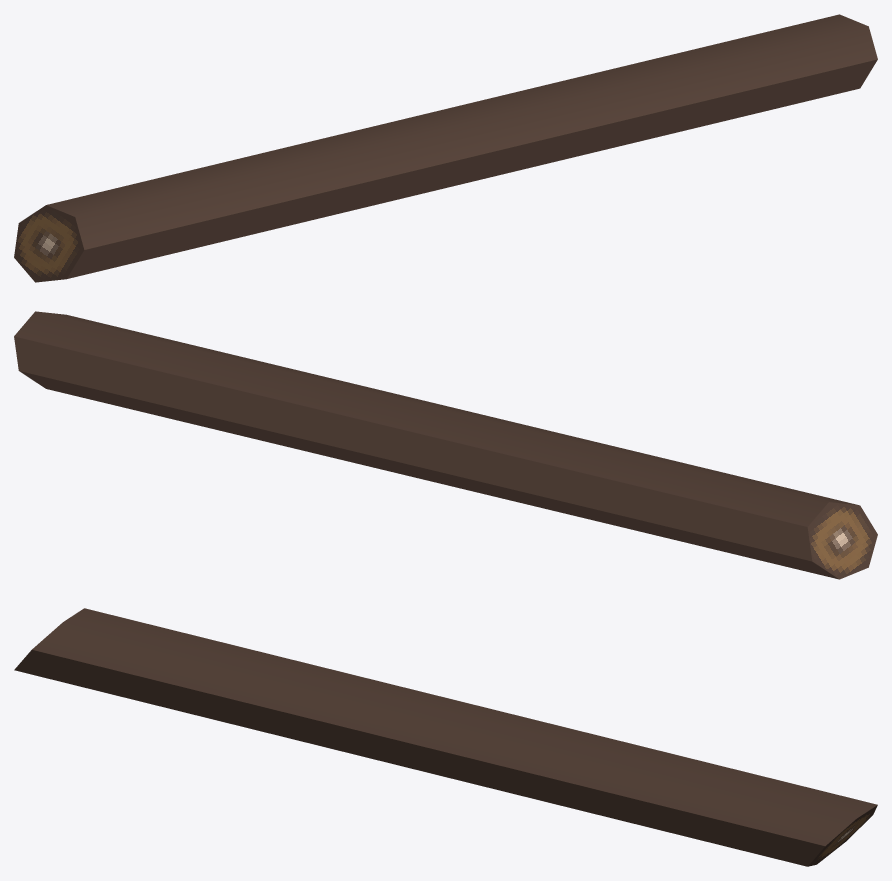
File: girth_stick.glb
3 views of the same model, one above another, from view 1: azimuth 30°, elevation 25°; view 2: azimuth 150°, elevation 25°; view 3: azimuth 330°, elevation 25° (orthographic).
Visible parts, largest first — view 1: Cylinder; view 2: Cylinder; view 3: Cylinder.
Boxes of the visible parts, <box> form: Cylinder: <box>14,14,877,282</box>; Cylinder: <box>14,311,877,579</box>; Cylinder: <box>14,608,877,866</box>.
Bounding box in the file's own units: 2.1 × 0.1412 × 0.2473.
1 material, 1 textured.
